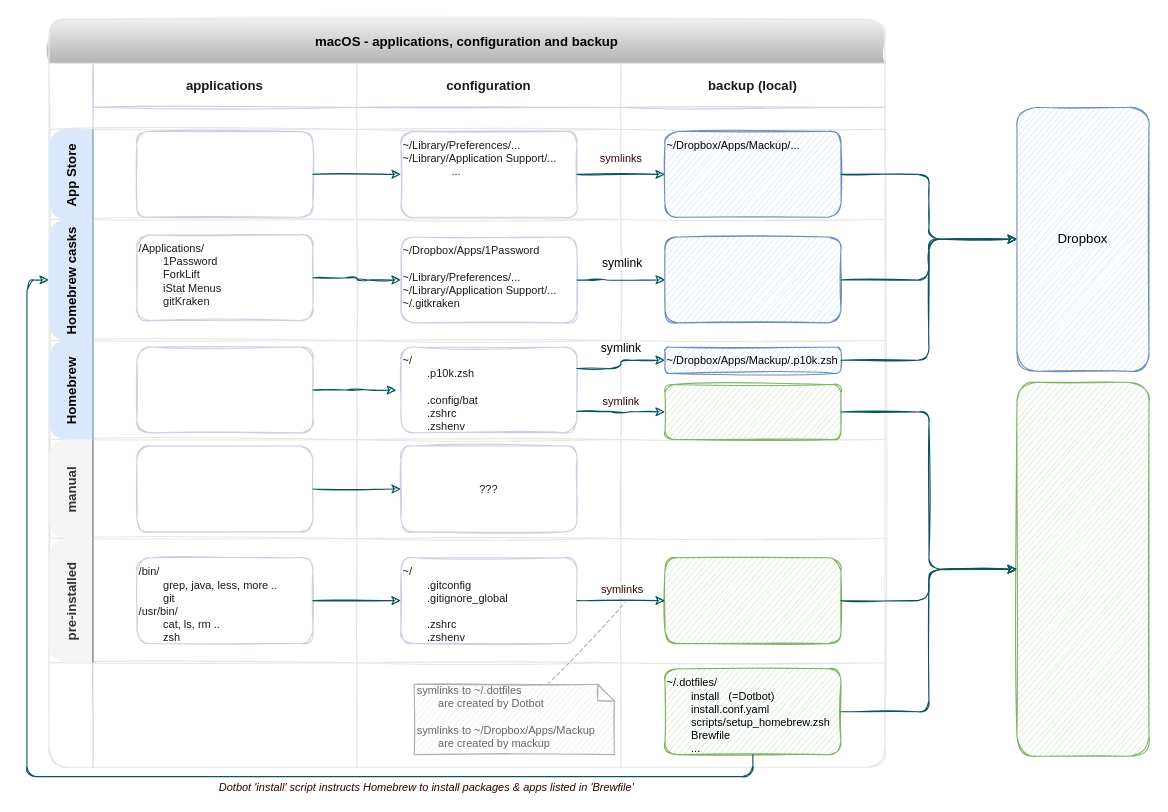
Some shapes in this 1168 by 812 pixel diagram are drawn without their labels. The shapes that lost their labels are listed below. From the top down, each one's centre as x and y in pixels, then its label:
the point at 224,173: /Applications/ Peek Pixelmator Xee
the point at 752,279: ~/Dropbox/Apps/1Password ~/Dropbox/Apps/Mackup/ Library/... .gitkraken/
the point at 224,389: $HOMEBREW_PREFIX/opt/ powerlevel10k awscli, jenv, n, node, python .. bat zsh
the point at 752,411: ~/.dotfiles/config/bat ~/.dotfiles/zshrc ~/.dotfiles/zshenv
the point at 224,488: TRY TO AVOID manual installations
the point at 1082,568: GitHub
the point at 752,600: ~/.dotfiles/ config/gitconfig config/gitignore_global zshrc zshenv
